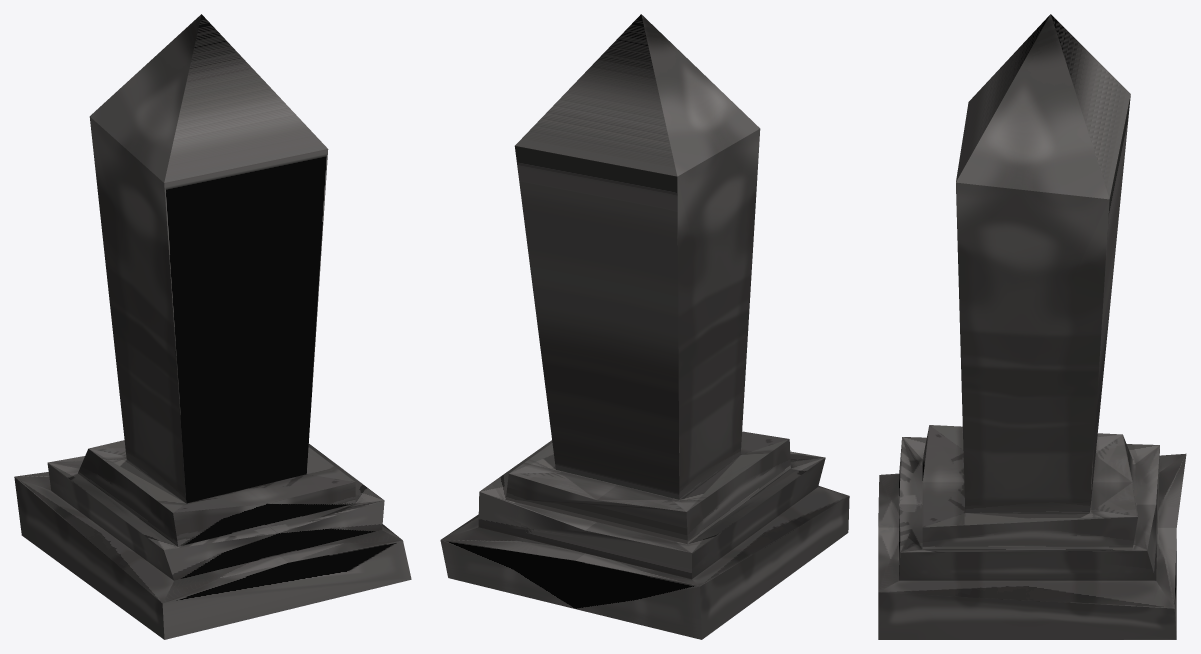
File: grave02.fbx
The picture shows the model from 3 angles, left to right: view 1: azimuth 30°, elevation 25°; view 2: azimuth 150°, elevation 25°; view 3: azimuth 270°, elevation 25°; orthographic projection. The views are drawn at different scales.
Parts seen in each view (by area): view 1: Cube; view 2: Cube; view 3: Cube.
Part boxes in pixels (x1=…): Cube: x1=14, y1=14, x2=411, y2=639; Cube: x1=440, y1=14, x2=849, y2=639; Cube: x1=878, y1=14, x2=1186, y2=639.
Size of the model in its own units: 209 by 415 by 207.
